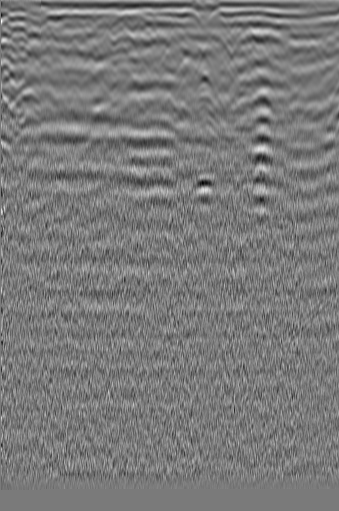가스: (188, 170, 223, 203)
상수: (281, 33, 302, 60)
오수: (4, 17, 39, 47)
우수: (141, 27, 172, 55)
